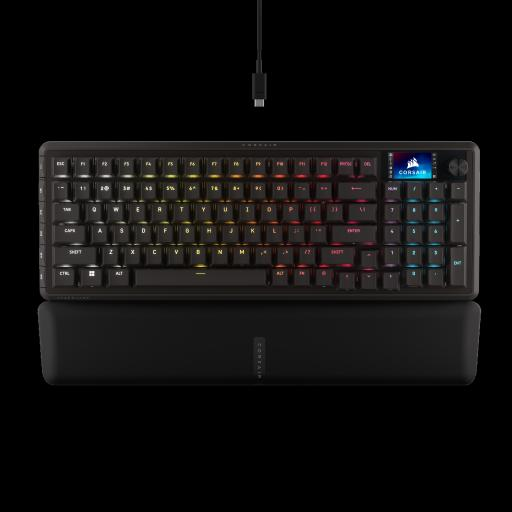keyboard: (24, 138, 487, 394)
